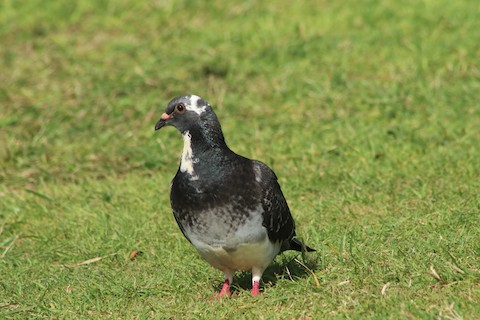pigeon: (152, 90, 320, 303)
